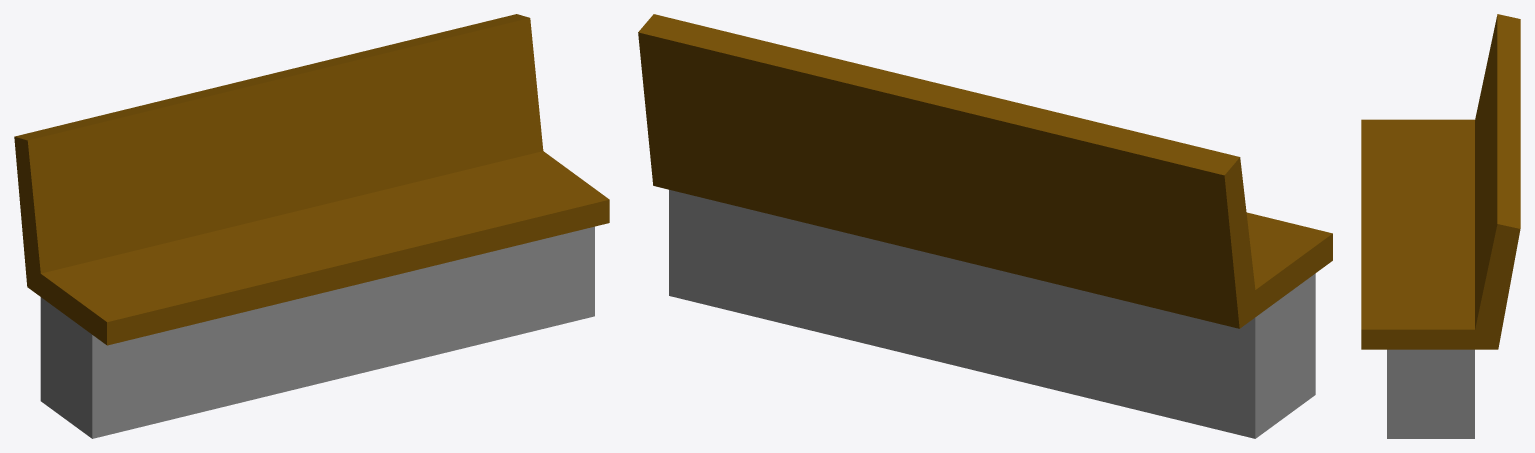
3 views of the same model, side by side, from view 1: azimuth 30°, elevation 25°; view 2: azimuth 150°, elevation 25°; view 3: azimuth 270°, elevation 25° (orthographic). The views are drawn at different scales.
Parts seen in each view (by area): view 1: Box01; view 2: Box01; view 3: Box01.
Part boxes in pixels (x1,y1,x2,y2): Box01: (14,14,609,438); Box01: (638,14,1332,438); Box01: (1361,14,1520,438).
Size of the model in its own units: 44.48 by 14.24 by 21.24.
